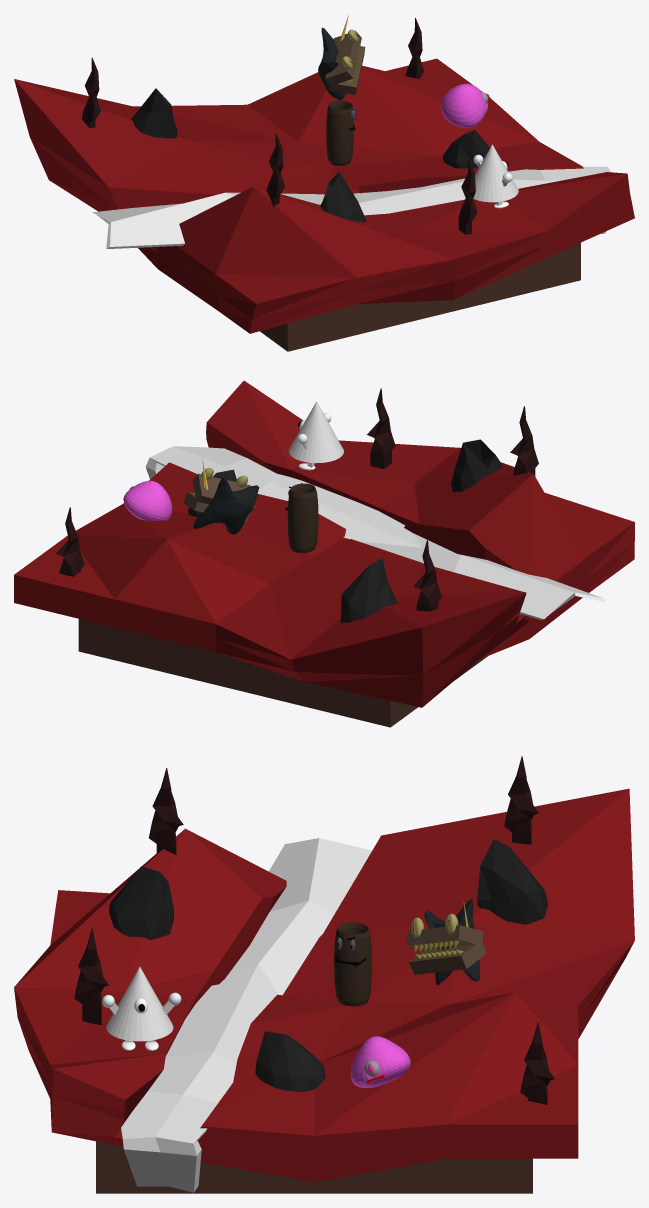
The model's file is caja.fbx.
The picture shows the model from 3 angles, top to bottom: view 1: azimuth 30°, elevation 25°; view 2: azimuth 150°, elevation 25°; view 3: azimuth 270°, elevation 25°; orthographic projection. The views are drawn at different scales.
Visible parts, largest first — view 1: Cube.002, terreno, Plane, caja, Sphere.007, papel, SLIME1, Icosphere.001, Icosphere, Icosphere.002, Cube.004, Cube.007 (+2 smaller); view 2: Cube.002, Plane, terreno, caja, Icosphere.001, Sphere.007, papel, Icosphere, SLIME1, Cube.004, Cube.005, Cube.007 (+1 smaller); view 3: Cube.002, Plane, terreno, caja, Icosphere.001, Icosphere, Sphere.007, Icosphere.002, papel, SLIME1, Cube.004, Cube.005 (+2 smaller).
Boxes of the visible parts, x1,y1,x2,y2 form: Cube.002: [14, 58, 634, 333]; terreno: [260, 242, 580, 351]; Plane: [92, 166, 611, 249]; caja: [318, 14, 365, 99]; Sphere.007: [473, 144, 518, 208]; papel: [326, 100, 356, 165]; SLIME1: [441, 83, 487, 128]; Icosphere.001: [131, 88, 177, 138]; Icosphere: [320, 172, 365, 222]; Icosphere.002: [442, 130, 489, 168]; Cube.004: [458, 159, 477, 234]; Cube.007: [266, 133, 285, 207]; Cube.002: [14, 380, 634, 707]; Plane: [145, 446, 605, 620]; terreno: [78, 619, 487, 727]; caja: [183, 458, 259, 534]; Icosphere.001: [341, 558, 397, 623]; Sphere.007: [288, 401, 343, 470]; papel: [285, 483, 318, 552]; Icosphere: [450, 439, 502, 492]; SLIME1: [123, 480, 172, 520]; Cube.004: [367, 388, 395, 468]; Cube.005: [413, 540, 441, 611]; Cube.007: [510, 406, 538, 476]; Cube.002: [14, 788, 634, 1182]; Plane: [121, 838, 372, 1192]; terreno: [96, 1141, 532, 1193]; caja: [406, 898, 486, 985]; Icosphere.001: [477, 839, 548, 924]; Icosphere: [109, 866, 173, 939]; Sphere.007: [102, 966, 181, 1050]; Icosphere.002: [255, 1031, 325, 1091]; papel: [334, 922, 371, 1006]; SLIME1: [350, 1036, 410, 1088]; Cube.004: [74, 928, 108, 1025]; Cube.005: [504, 756, 538, 844].
Size of the model in its own units: 14949 by 5938 by 13319.
